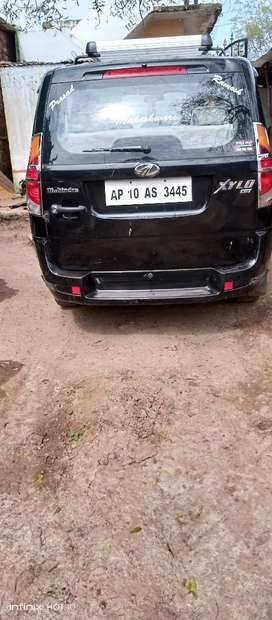AP10AS3445: (103, 176, 191, 206)
